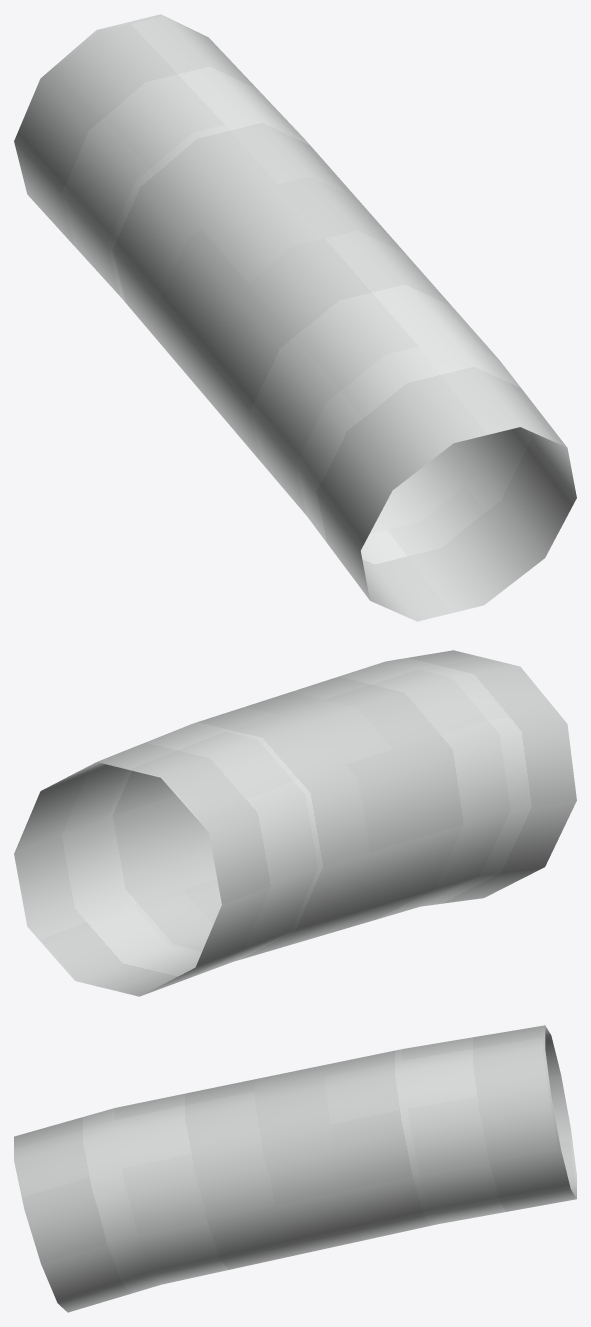
The model's file is nycsignalarm_regular8_c3.obj.
3 views of the same model, one above another, from view 1: azimuth 30°, elevation 25°; view 2: azimuth 150°, elevation 25°; view 3: azimuth 270°, elevation 25° (orthographic). The views are drawn at different scales.
Visible parts, largest first — view 1: nycsignalarm_regular8_c3; view 2: nycsignalarm_regular8_c3; view 3: nycsignalarm_regular8_c3.
Boxes of the visible parts, x1,y1,x2,y2 form: nycsignalarm_regular8_c3: (14, 14, 576, 621); nycsignalarm_regular8_c3: (14, 650, 576, 996); nycsignalarm_regular8_c3: (14, 1025, 576, 1312).
Size of the model in its own units: 0.3284 by 0.5161 by 0.9986.
